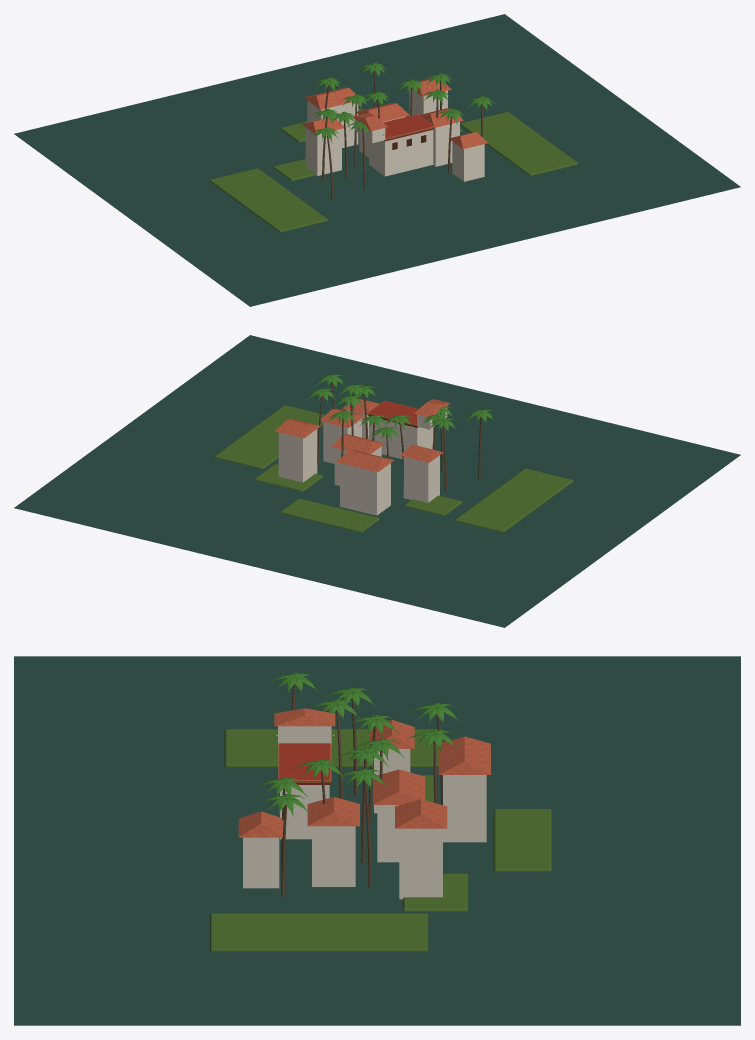
Rendered from rooftop.glb.
3 renders of one model, top to bottom at view 1: azimuth 30°, elevation 25°; view 2: azimuth 150°, elevation 25°; view 3: azimuth 270°, elevation 25°, orthographic. The views are drawn at different scales.
Parts seen in each view (by area): view 1: backwater, island3, island4, house, nb3, nb1, nb0, nb4, terrace, nbroof4, nb5, island0 (+1 smaller); view 2: backwater, island3, island4, nb4, nb5, island2, nb3, house, nb0, nbroof4, island1, island0 (+3 smaller); view 3: backwater, island4, island3, island2, nb5, nb4, nb0, nb1, nbroof4, terrace, island1, nbroof2 (+16 smaller).
Part boxes in pixels (box(x1,y1,x2,y2)): backwater: box(14, 14, 740, 306); island3: box(209, 168, 328, 232); island4: box(460, 112, 578, 175); house: box(369, 130, 433, 176); nb3: box(305, 127, 341, 175); nb1: box(452, 141, 484, 181); nb0: box(433, 122, 459, 166); nb4: box(307, 100, 358, 148); terrace: box(384, 114, 433, 138); nbroof4: box(303, 87, 355, 109); nb5: box(409, 88, 447, 115); island0: box(273, 159, 315, 180); backwater: box(14, 335, 740, 627); island3: box(455, 468, 573, 532); island4: box(214, 405, 325, 469); nb4: box(340, 463, 390, 515); nb5: box(278, 429, 317, 482); island2: box(280, 498, 379, 532); nb3: box(403, 455, 439, 502); house: box(369, 420, 433, 459); nb0: box(323, 419, 361, 463); nbroof4: box(336, 450, 394, 472); island1: box(254, 464, 323, 491); island0: box(404, 495, 462, 515); backwater: box(14, 656, 740, 1025); island4: box(210, 913, 428, 951); island3: box(224, 729, 442, 766); island2: box(493, 809, 551, 871); nb5: box(399, 828, 442, 899); nb4: box(443, 775, 486, 842); nb0: box(312, 826, 355, 886); nb1: box(243, 837, 279, 888); nbroof4: box(438, 736, 490, 774); terrace: box(279, 743, 330, 780); island1: box(403, 873, 468, 911); nbroof2: box(373, 769, 425, 804).
Bounding box in the file's own units: 120 × 18.52 × 100.
13 materials, 2 textured.
